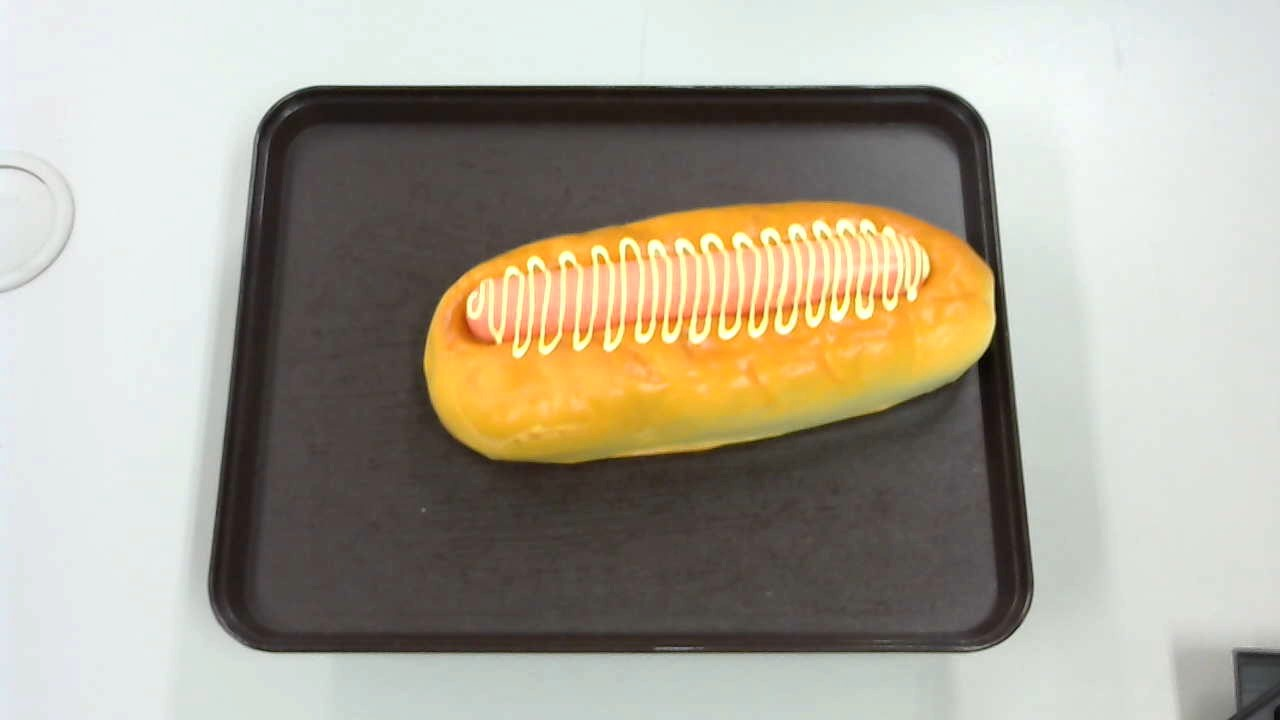hot dog: (423, 201, 996, 464)
